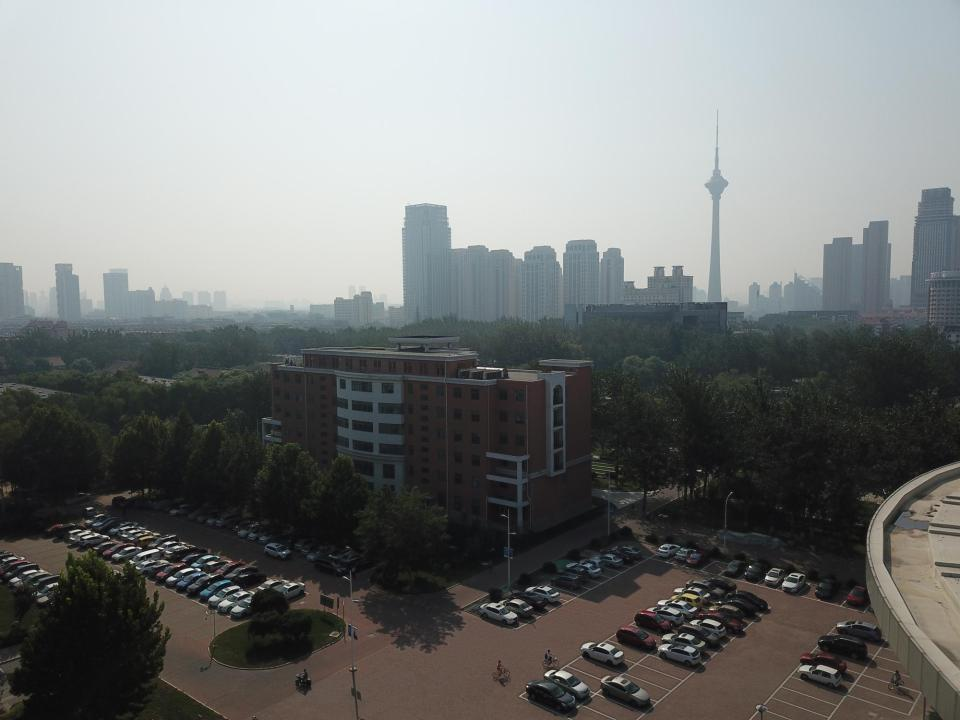car: (600, 675, 650, 706), (526, 679, 576, 710), (544, 669, 590, 699), (817, 633, 868, 659), (799, 652, 846, 675), (580, 642, 625, 666), (798, 664, 842, 688), (698, 610, 742, 634), (662, 633, 706, 655), (678, 624, 720, 647), (658, 643, 700, 666), (616, 625, 656, 649), (836, 621, 882, 641), (726, 590, 768, 611), (656, 599, 698, 619), (480, 602, 518, 624), (634, 610, 672, 632), (188, 573, 222, 597), (217, 591, 255, 612), (15, 572, 53, 593), (2, 562, 40, 583), (208, 586, 244, 608), (685, 579, 724, 599), (24, 574, 63, 594), (230, 596, 267, 617), (646, 606, 684, 626), (200, 579, 234, 601), (715, 597, 756, 615), (688, 619, 726, 638), (708, 604, 744, 624), (698, 574, 737, 592), (166, 568, 201, 588), (156, 562, 191, 582), (508, 592, 546, 610), (673, 586, 711, 604), (498, 599, 533, 618), (8, 570, 44, 588), (176, 572, 208, 592), (525, 586, 560, 604), (172, 544, 207, 562), (32, 582, 65, 601), (224, 564, 258, 582), (566, 562, 601, 579), (38, 590, 73, 607), (0, 559, 28, 580), (135, 560, 169, 577), (103, 542, 135, 560), (273, 582, 306, 599), (551, 573, 581, 591), (670, 592, 703, 608), (234, 572, 267, 588), (148, 533, 180, 549), (111, 546, 143, 562), (180, 553, 214, 568), (0, 555, 24, 576), (165, 544, 196, 560), (204, 560, 235, 576), (782, 572, 805, 593), (847, 585, 871, 605), (558, 567, 590, 582), (96, 518, 128, 533), (156, 540, 186, 556), (215, 560, 245, 576), (258, 579, 290, 594), (150, 562, 180, 578), (601, 550, 635, 564), (129, 532, 160, 547), (103, 569, 126, 589), (264, 542, 291, 559), (815, 579, 840, 597), (190, 555, 220, 570), (610, 545, 642, 559), (307, 546, 335, 562), (79, 534, 110, 548), (68, 532, 100, 545), (350, 555, 376, 571), (55, 524, 84, 538), (591, 553, 622, 566), (764, 567, 785, 586), (108, 522, 138, 535), (92, 542, 124, 554), (578, 558, 605, 572), (686, 550, 708, 567), (657, 543, 680, 559), (745, 564, 765, 582), (329, 547, 353, 562), (724, 559, 744, 576), (118, 526, 146, 538), (122, 529, 150, 541), (64, 529, 92, 541), (675, 547, 697, 562), (238, 523, 260, 538), (259, 529, 282, 543), (84, 514, 110, 526), (168, 504, 194, 516), (136, 536, 164, 547), (248, 527, 270, 541), (44, 524, 69, 536), (64, 492, 91, 503), (92, 517, 118, 528), (294, 538, 316, 551), (189, 506, 209, 520), (301, 542, 320, 556), (343, 552, 363, 564), (198, 511, 218, 522), (231, 520, 249, 532), (111, 496, 129, 507), (206, 514, 224, 525), (82, 507, 97, 516)
van: (128, 548, 160, 568), (315, 556, 347, 575), (216, 511, 238, 528)
